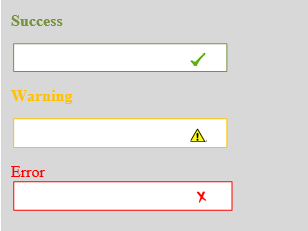error_field: (12, 181, 233, 212)
error_message: (10, 164, 46, 178)
